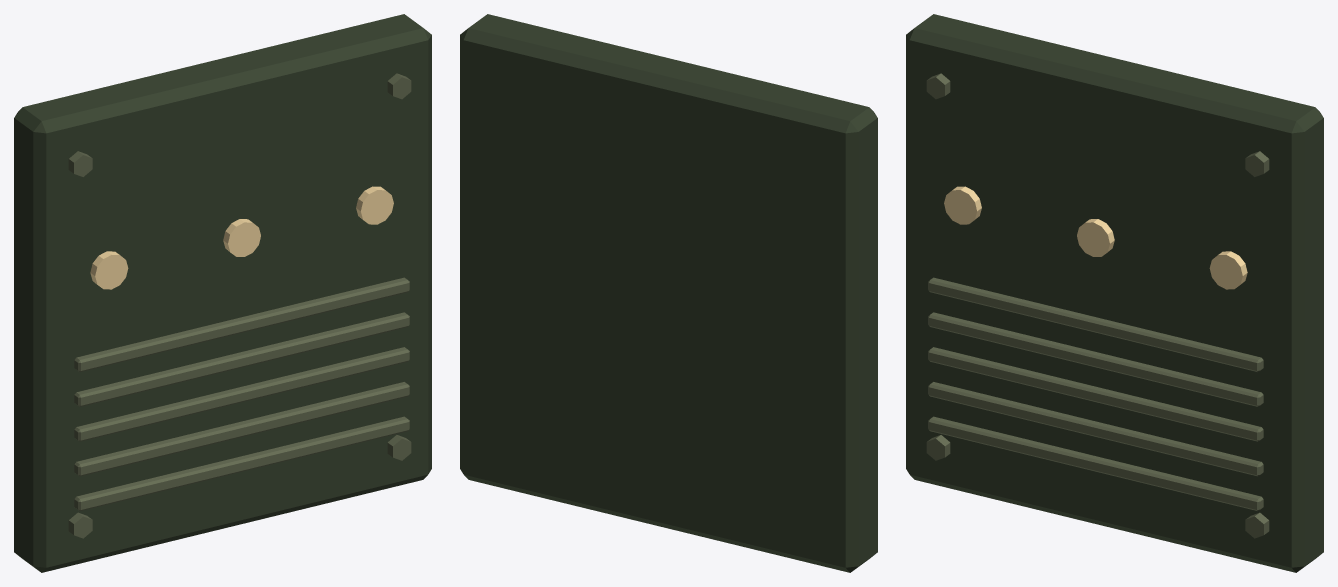
Rendered from detail_satellite.obj.
3 renders of one model, left to right at view 1: azimuth 30°, elevation 25°; view 2: azimuth 150°, elevation 25°; view 3: azimuth 330°, elevation 25°, orthographic.
Parts seen in each view (by area): view 1: detail_satellite; view 2: detail_satellite; view 3: detail_satellite.
Part boxes in pixels (x1,y1,x2,y2): detail_satellite: (14, 14, 431, 572); detail_satellite: (460, 14, 877, 572); detail_satellite: (906, 14, 1323, 572).
Size of the model in its own units: 1.2 by 1.3 by 0.19.
Materials: 1 (1 with a texture image).
